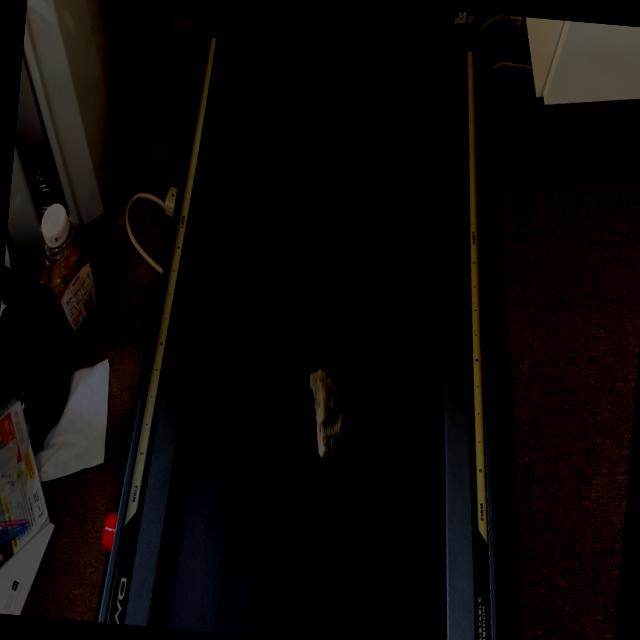Trash: (302, 366, 348, 462)
